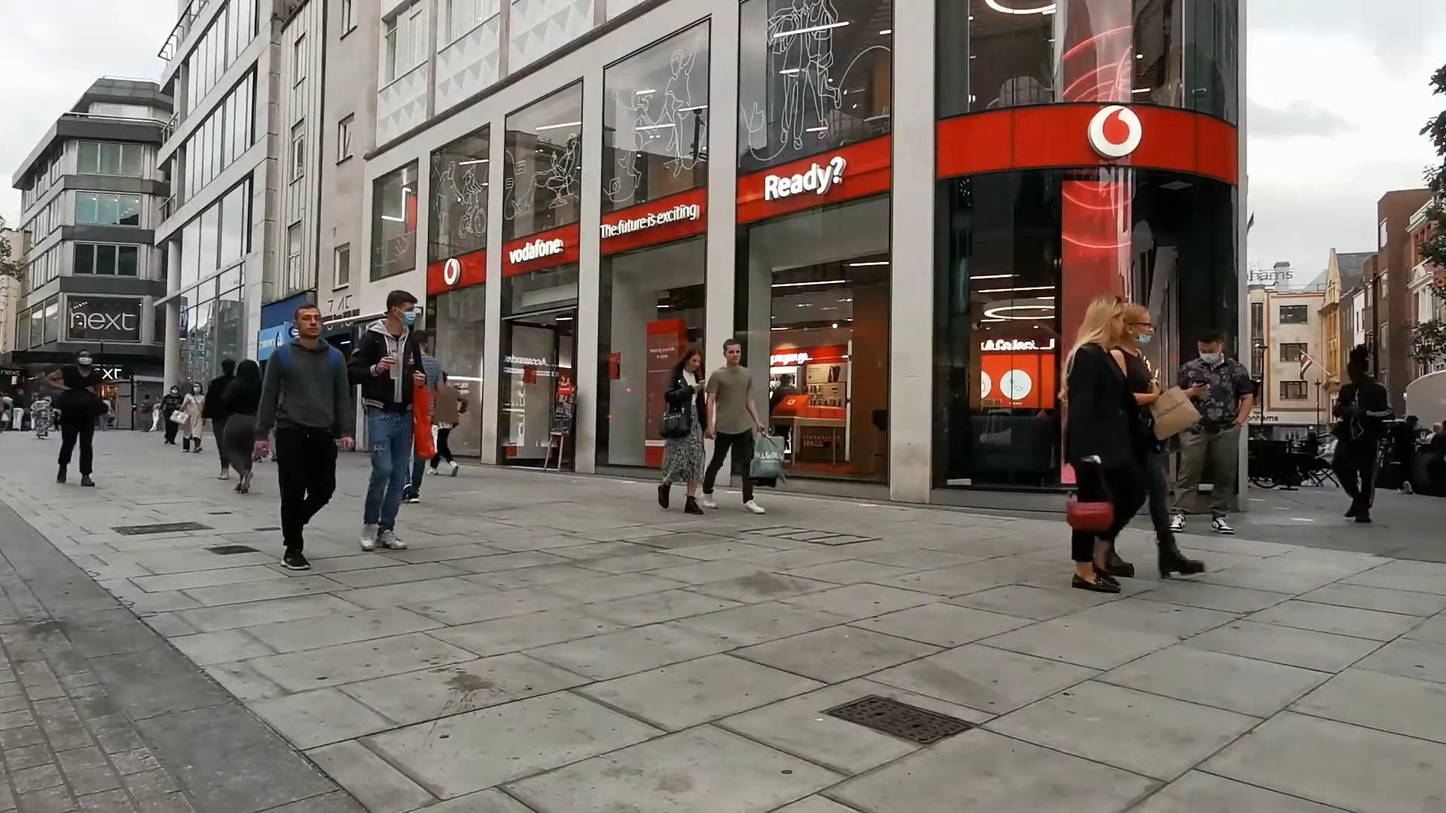no-helmet: (1083, 295, 1126, 344), (1123, 302, 1155, 346), (386, 289, 419, 326), (293, 304, 323, 339), (1196, 328, 1225, 364), (234, 359, 261, 388), (678, 348, 701, 372), (723, 338, 742, 365), (75, 349, 93, 366), (221, 359, 236, 377), (190, 382, 203, 397)
